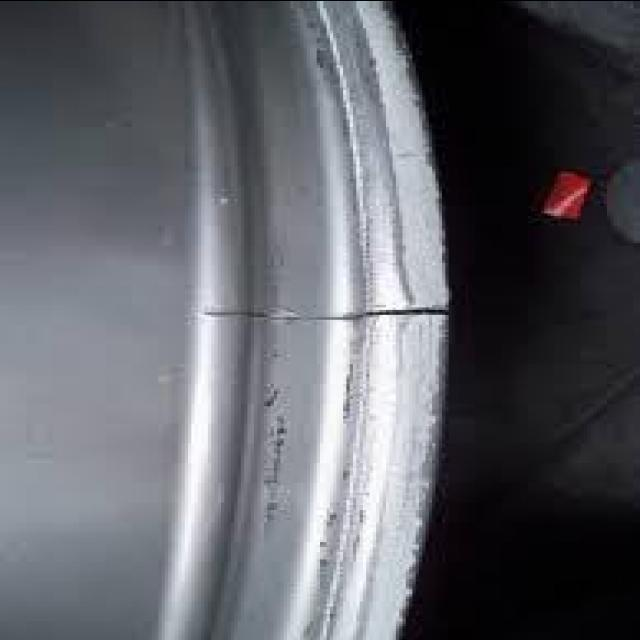Crack: (197, 298, 455, 322)
